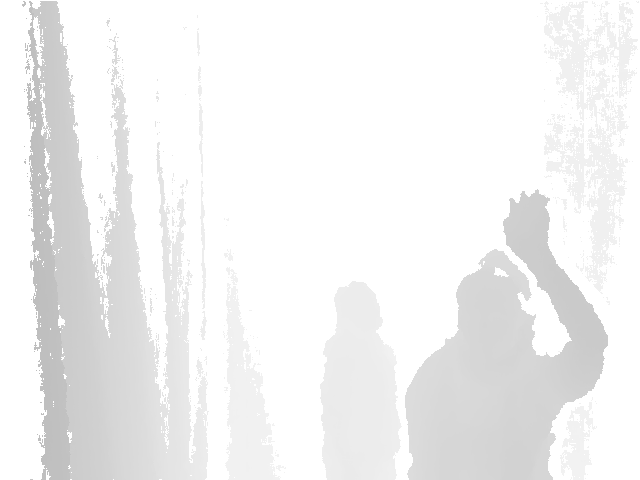hand: (503, 191, 553, 253)
head: (456, 250, 535, 345), (333, 280, 382, 333)
person: (403, 191, 609, 480), (319, 280, 403, 480)
